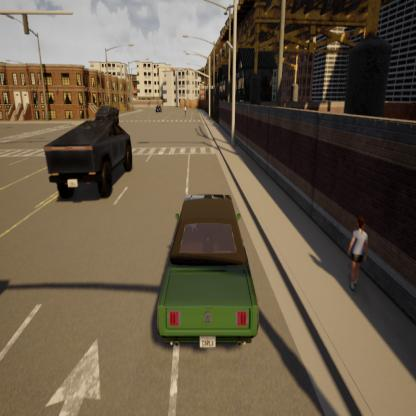Cars: (146, 179, 262, 361), (40, 118, 138, 208), (92, 102, 122, 124), (154, 104, 164, 113)
Pedestrian: (338, 208, 372, 306)
